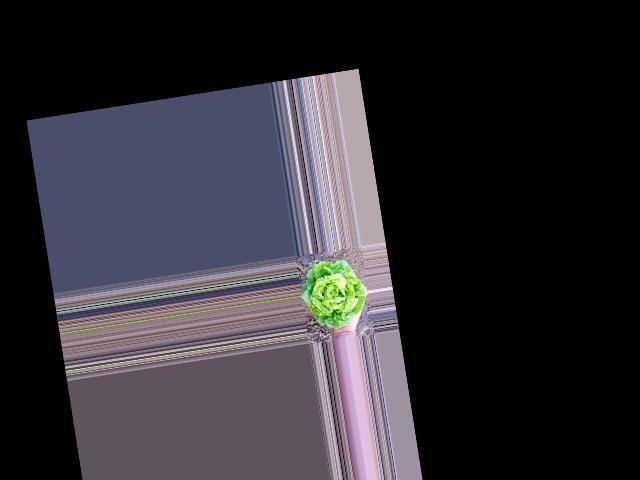lettuce: (298, 254, 369, 328)
